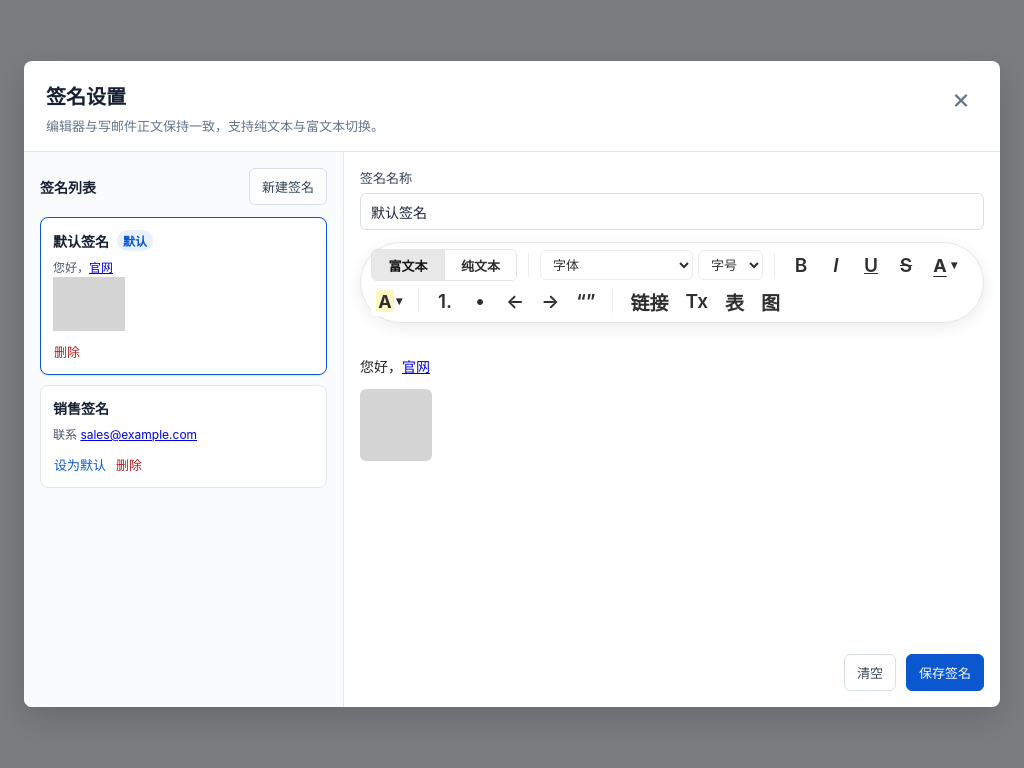
it: SignatureSettings 签名面板 › 可以在富文本和纯文本之间切换并保留签名内容
Click the button "新建签名" at (288, 187), box 249,168 -> 327,205
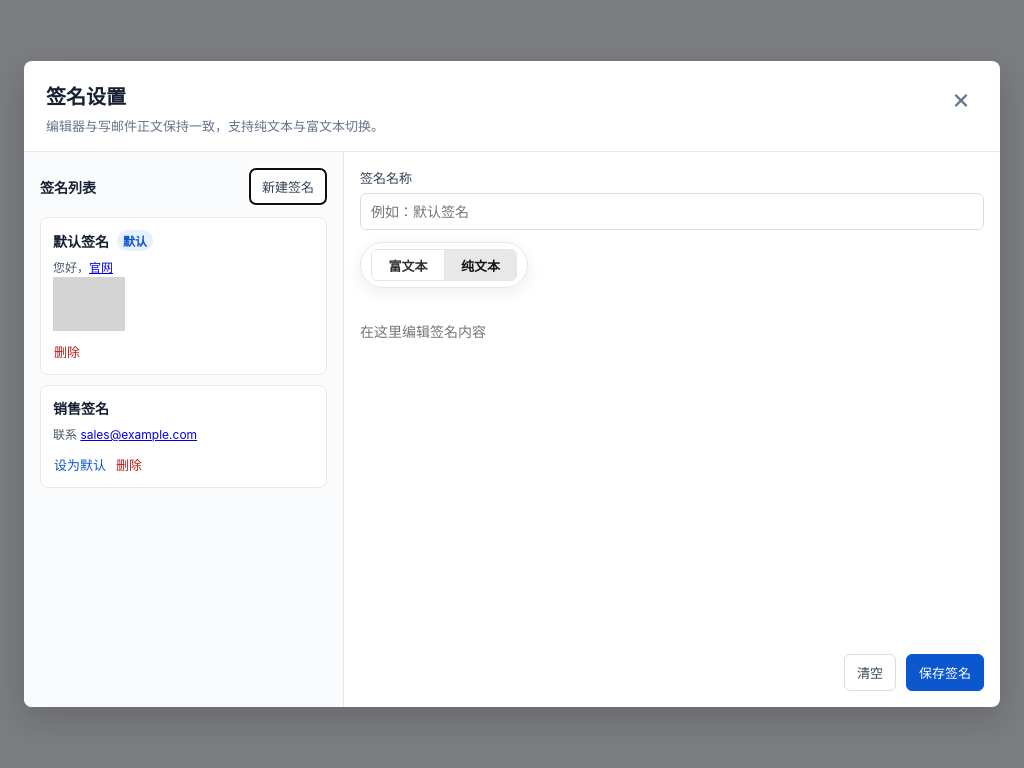
Type "模式切换签名" into the field labelled "签名名称" at (672, 212), box 360,193 -> 984,230
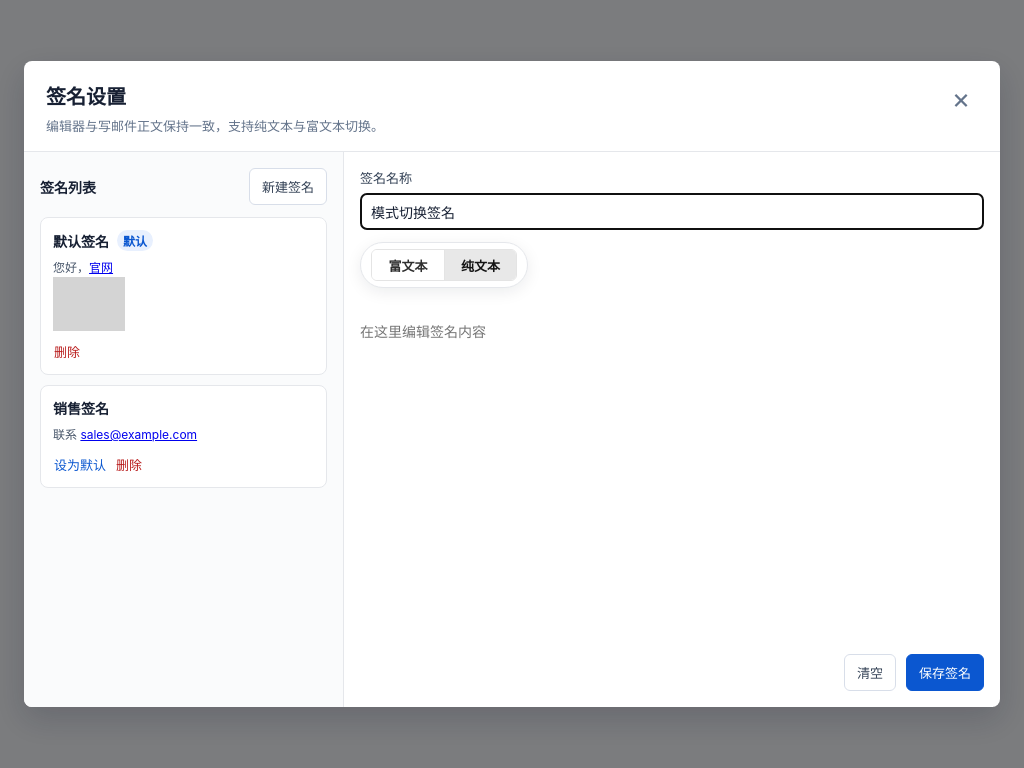
Click the button "纯文本" at (480, 265), box 444,250 -> 516,280
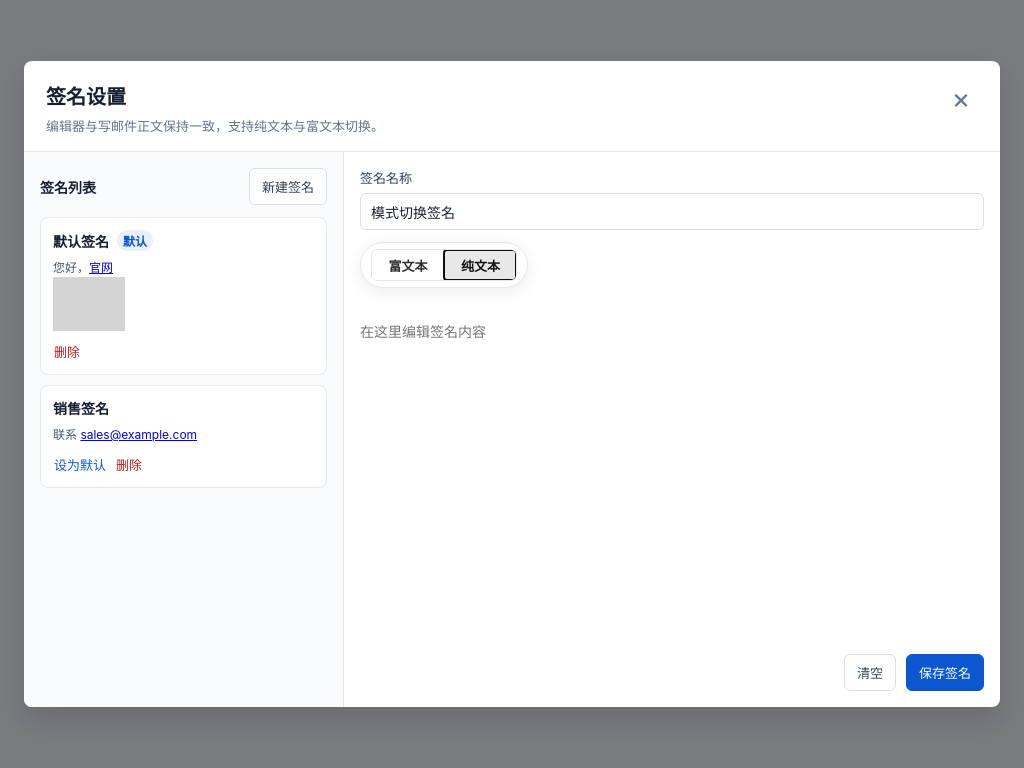
Type "第一行\\n第二行" into the text box named "签名正文" at (672, 477), box 360,312 -> 984,642
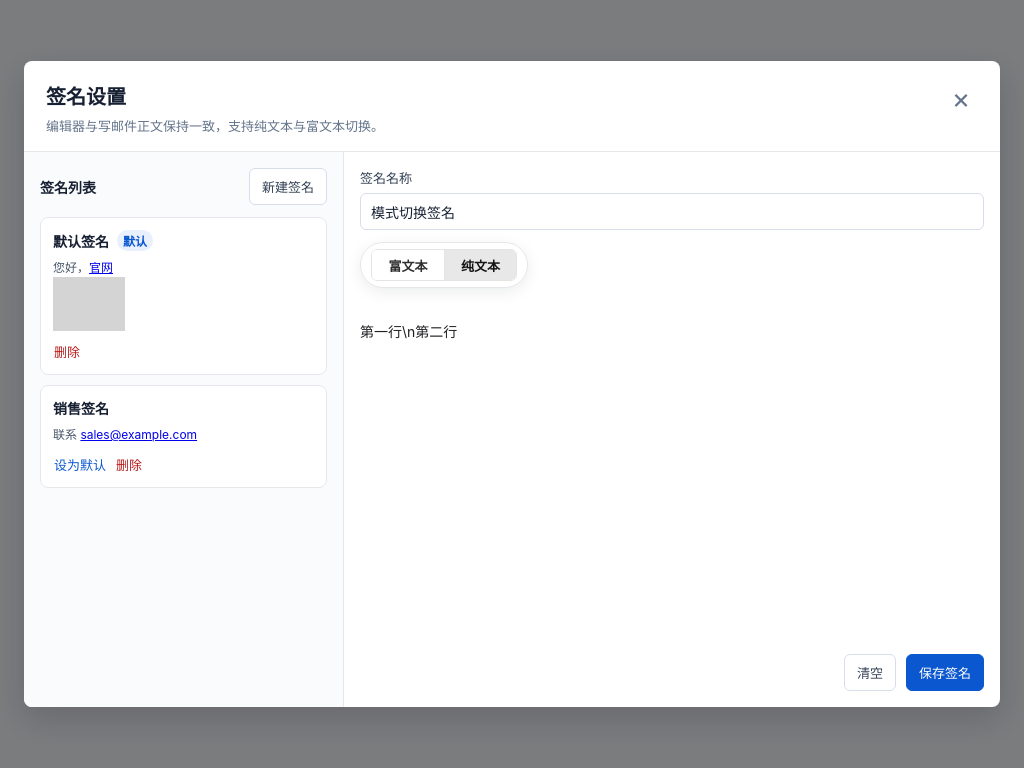
Click the button "富文本" at (408, 265), box 372,250 -> 444,280
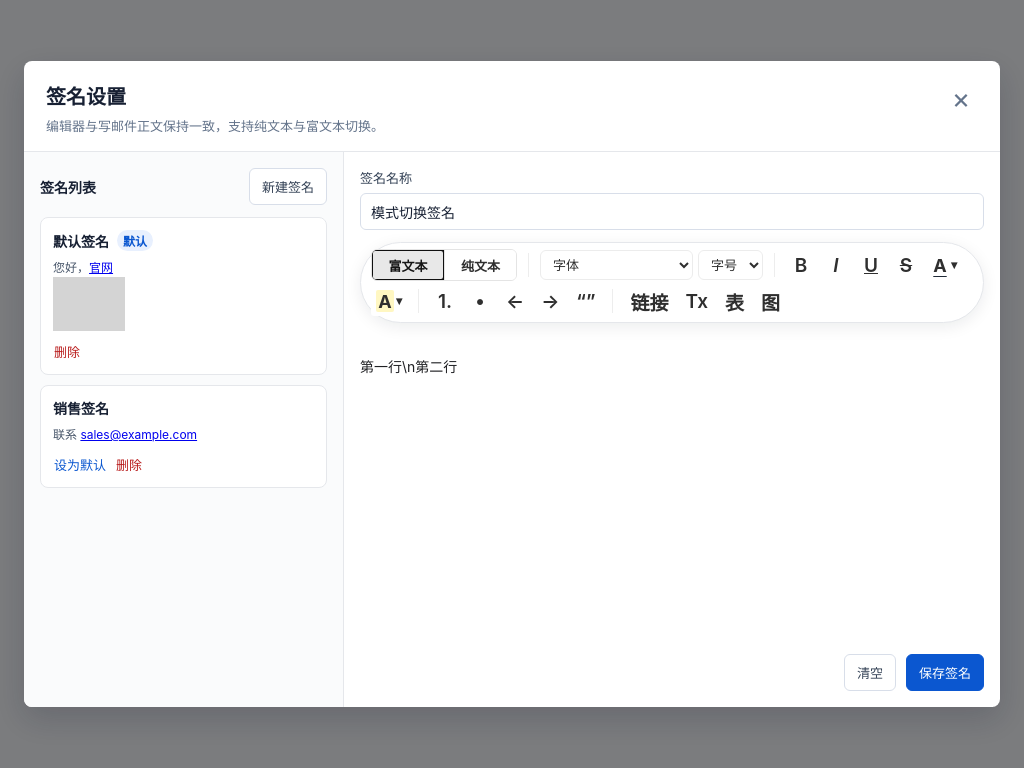
Expected: the field named "签名正文" shows "第一行", 360,358 -> 457,375
Expected: the field named "签名正文" shows "第二行", 360,358 -> 457,375
